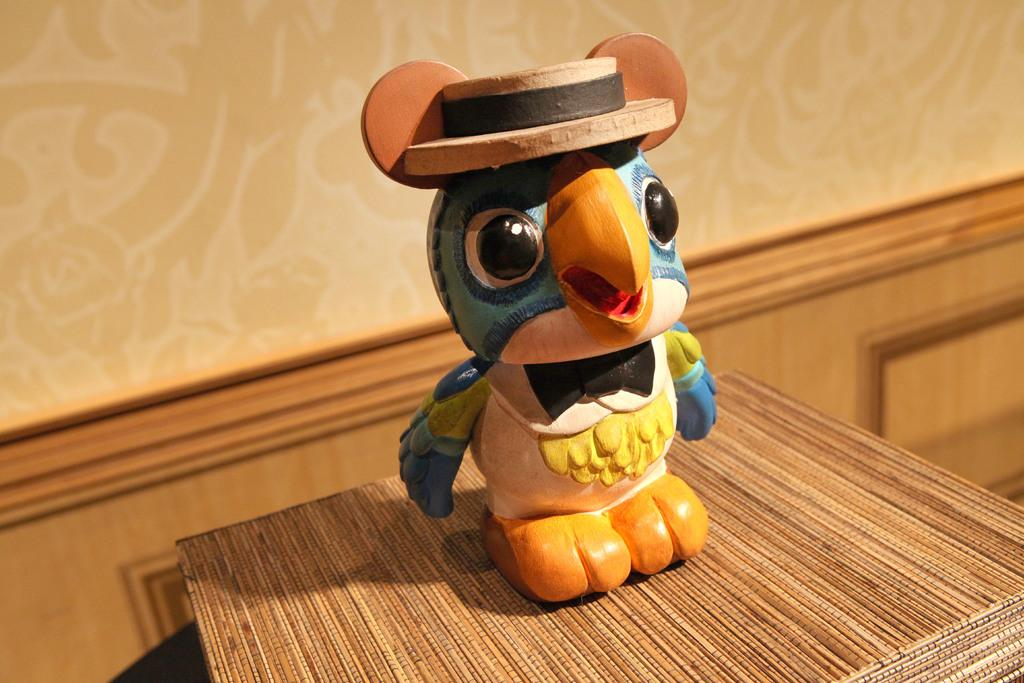Hat: (400, 54, 674, 178)
